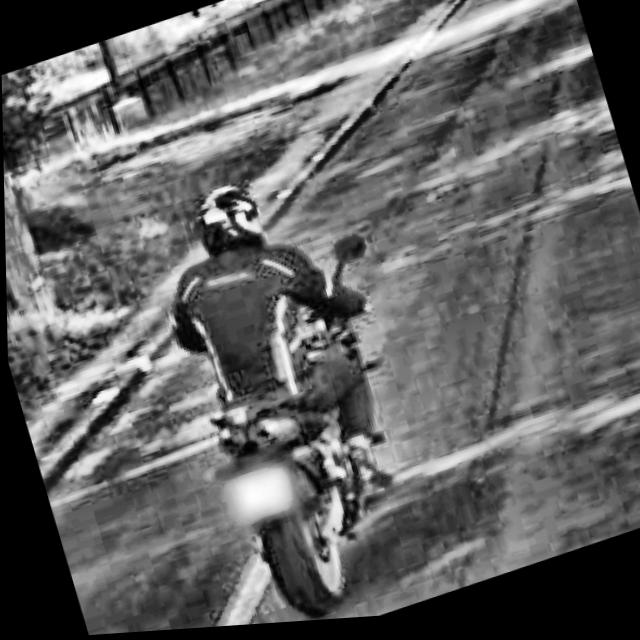motorcycle: (137, 229, 462, 633)
